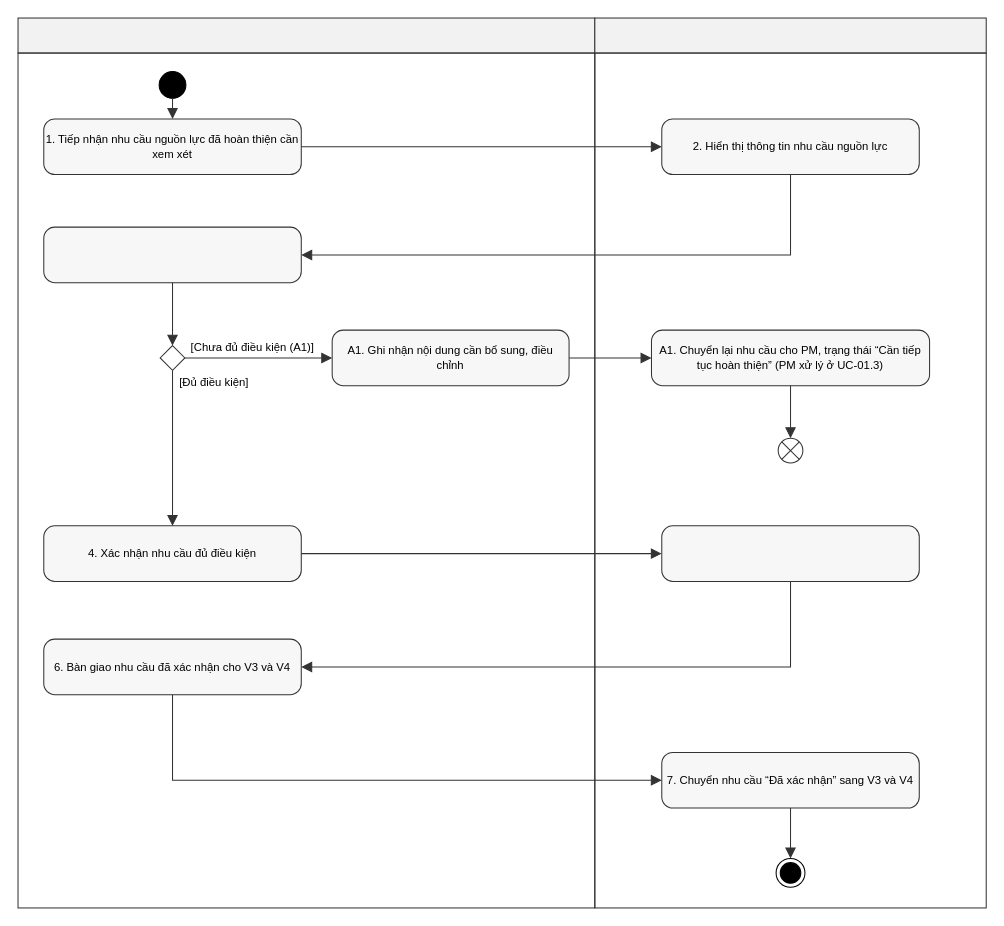
Some shapes in this 1004 by 926 pixel diagram are drawn without their labels. The shapes that lost their labels are listed below. From the top down, each one's box as (x1, y1, x2, y2) in pixels, then its label:
(17, 17, 595, 53): RM
(594, 17, 986, 53): Hệ thống
(43, 226, 301, 283): 3. Xem xét nhu cầu, đánh giá mức đáp ứng điều kiện xác nhận
(661, 525, 919, 581): 5. Ghi nhận kết quả, cập nhật trạng thái “Đã xác nhận”
